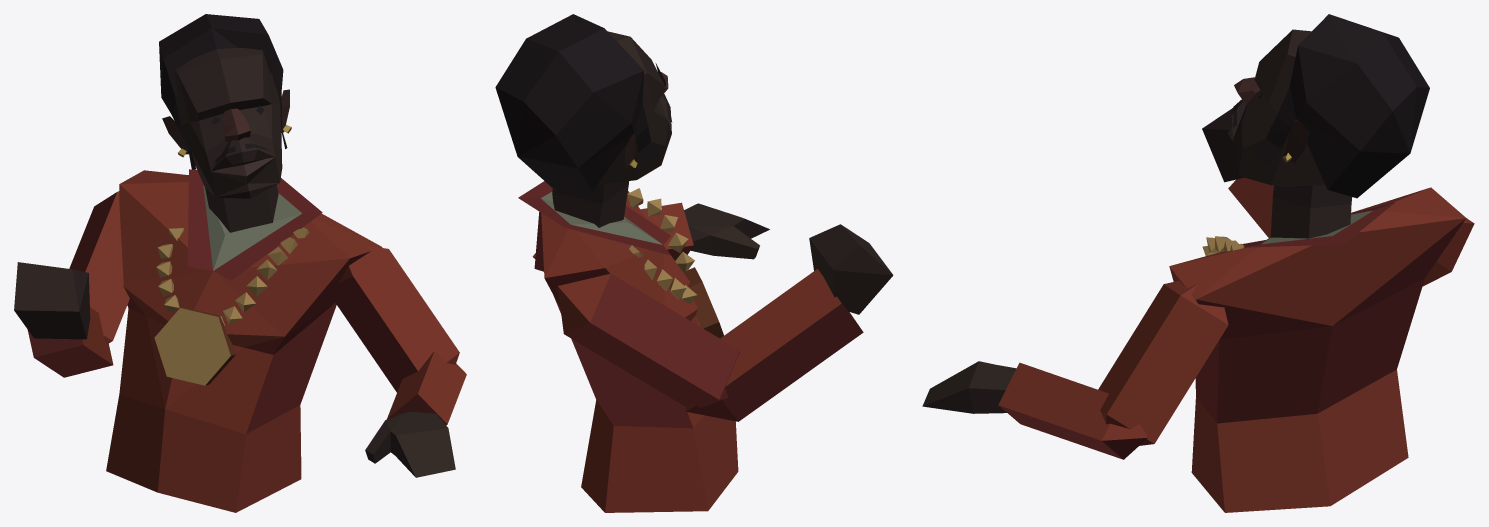
File: Character03.fbx
3 renders of one model, left to right at view 1: azimuth 30°, elevation 25°; view 2: azimuth 150°, elevation 25°; view 3: azimuth 270°, elevation 25°, orthographic. The views are drawn at different scales.
Parts seen in each view (by area): view 1: Mesh_Character03; view 2: Mesh_Character03; view 3: Mesh_Character03.
Part boxes in pixels (left/top/right/bottom): Mesh_Character03: left=14, top=14, right=466, bottom=512; Mesh_Character03: left=495, top=14, right=893, bottom=512; Mesh_Character03: left=922, top=14, right=1474, bottom=512.
Bounding box in the file's own units: 10.93 × 12.15 × 11.67.
